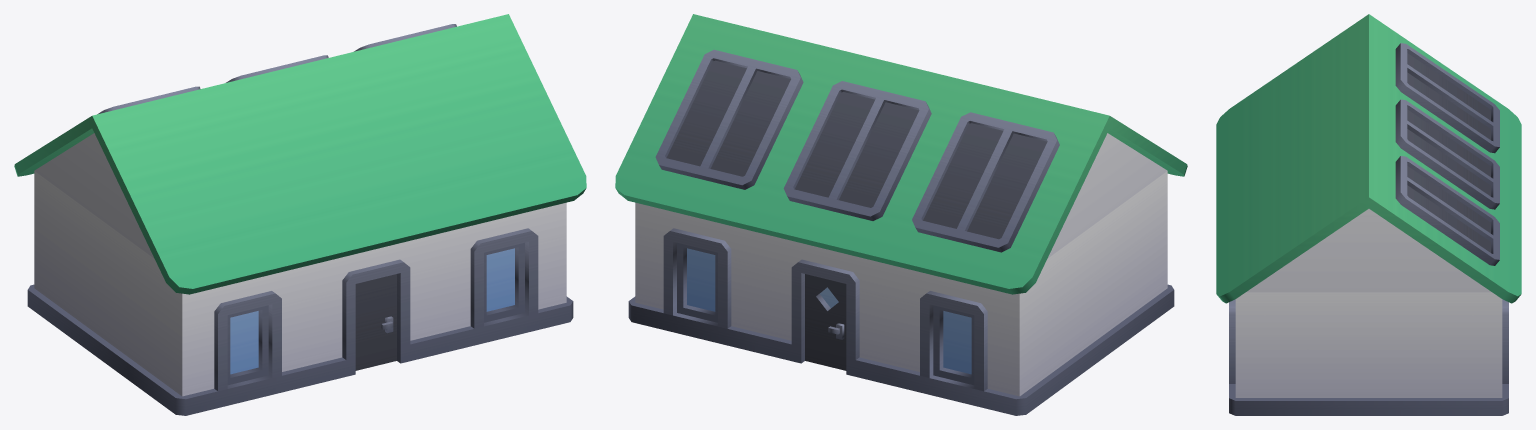
The model's file is house_7.fbx.
3 renders of one model, left to right at view 1: azimuth 30°, elevation 25°; view 2: azimuth 150°, elevation 25°; view 3: azimuth 270°, elevation 25°, orthographic. The views are drawn at different scales.
Parts seen in each view (by area): view 1: house_7; view 2: house_7; view 3: house_7.
Boxes of the visible parts, left/top/right/bottom form: house_7: left=14, top=14, right=586, bottom=415; house_7: left=615, top=14, right=1187, bottom=415; house_7: left=1216, top=14, right=1521, bottom=415.
Bounding box in the file's own units: 1.3 × 0.7375 × 0.916.
1 material, 1 textured.
